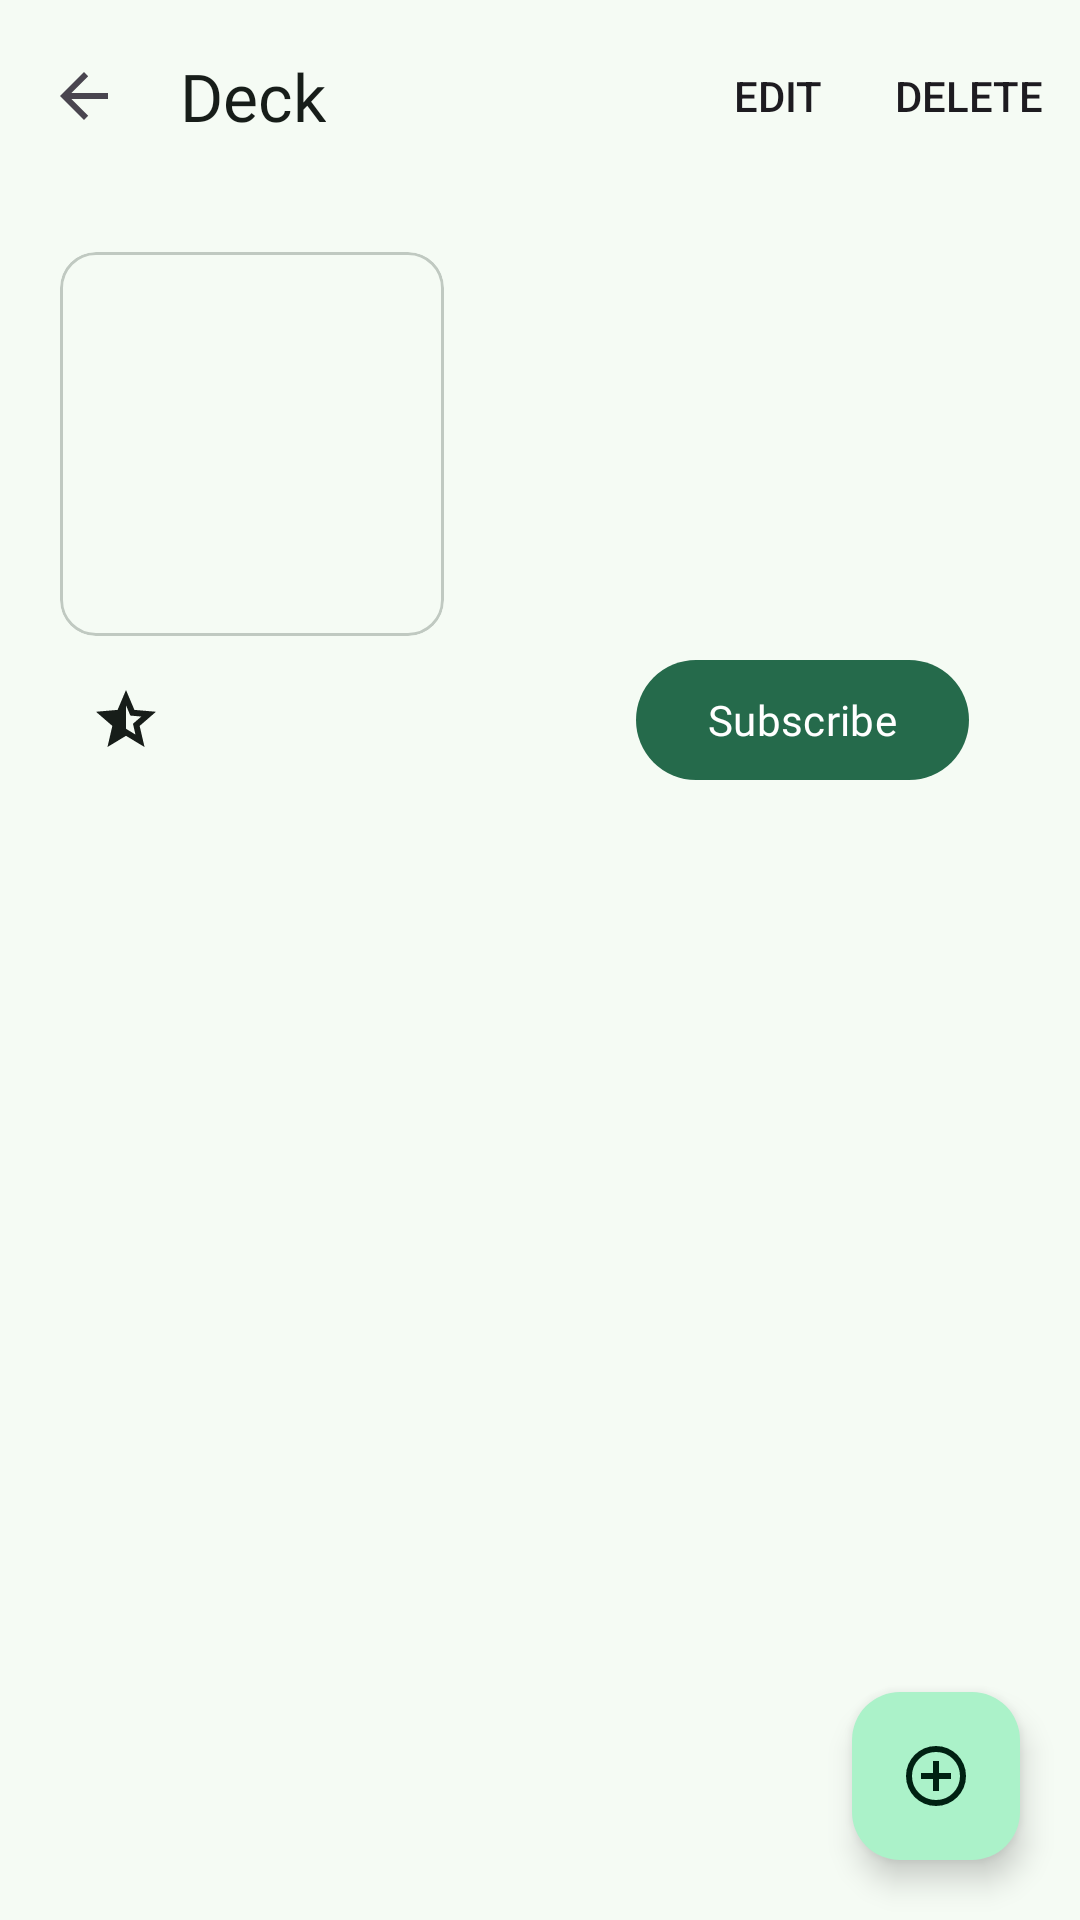

Locate icon controls on the screen. Image size 1080 × 1920, boxes as (x1, y1, x2, y2).
Add deck: (852, 1692, 1020, 1860)
